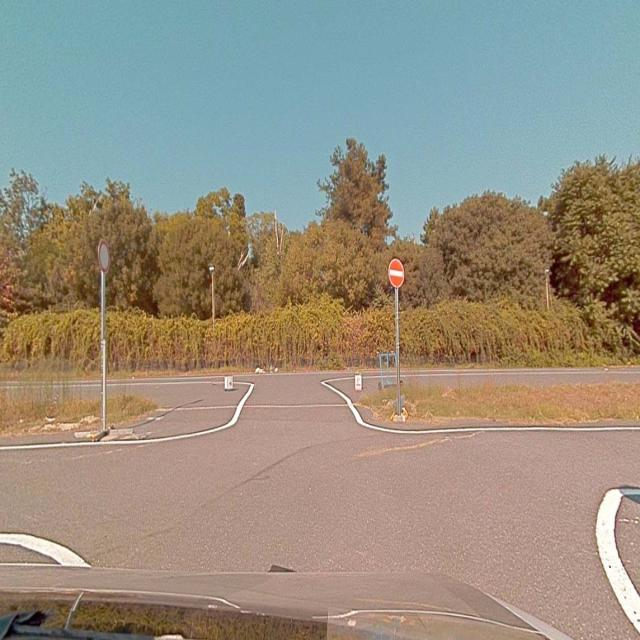girisyok: (388, 258, 404, 287)
